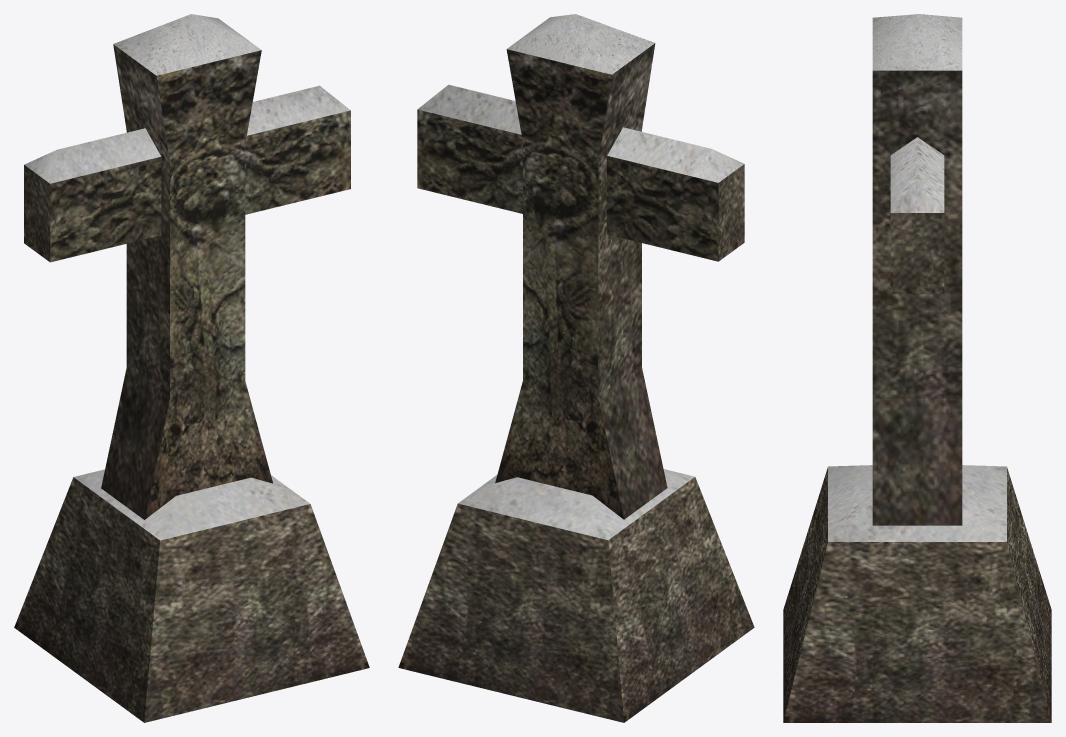
File: tombstone_sm_10_snow.fbx
3 renders of one model, left to right at view 1: azimuth 30°, elevation 25°; view 2: azimuth 150°, elevation 25°; view 3: azimuth 270°, elevation 25°, orthographic. The views are drawn at different scales.
Visible parts, largest first — view 1: mesh_0, mesh_2, mesh_4, mesh_5, mesh_1, mesh_3; view 2: mesh_0, mesh_2, mesh_4, mesh_5, mesh_1, mesh_3; view 3: mesh_0, mesh_2, mesh_1, mesh_3, mesh_4, mesh_5.
Part boxes in pixels (x1=…): mesh_0: x1=14, y1=477, x2=369, y2=722; mesh_2: x1=101, y1=44, x2=272, y2=519; mesh_4: x1=24, y1=110, x2=350, y2=262; mesh_5: x1=24, y1=85, x2=350, y2=183; mesh_1: x1=74, y1=469, x2=309, y2=540; mesh_3: x1=113, y1=14, x2=261, y2=75; mesh_0: x1=398, y1=477, x2=754, y2=722; mesh_2: x1=495, y1=43, x2=667, y2=519; mesh_4: x1=417, y1=109, x2=744, y2=261; mesh_5: x1=417, y1=84, x2=744, y2=182; mesh_1: x1=458, y1=469, x2=694, y2=540; mesh_3: x1=507, y1=14, x2=654, y2=74; mesh_0: x1=783, y1=467, x2=1051, y2=722; mesh_2: x1=872, y1=70, x2=962, y2=525; mesh_1: x1=828, y1=465, x2=1006, y2=541; mesh_3: x1=872, y1=14, x2=962, y2=70; mesh_4: x1=890, y1=213, x2=944, y2=293; mesh_5: x1=890, y1=137, x2=944, y2=212.
Size of the model in its own units: 80 by 161 by 60.
Materials: 2 (2 with a texture image).
